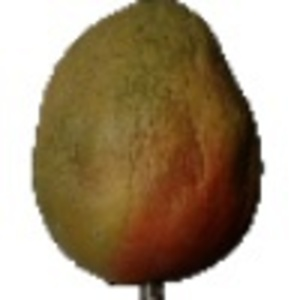mamão: (26, 2, 265, 287)
